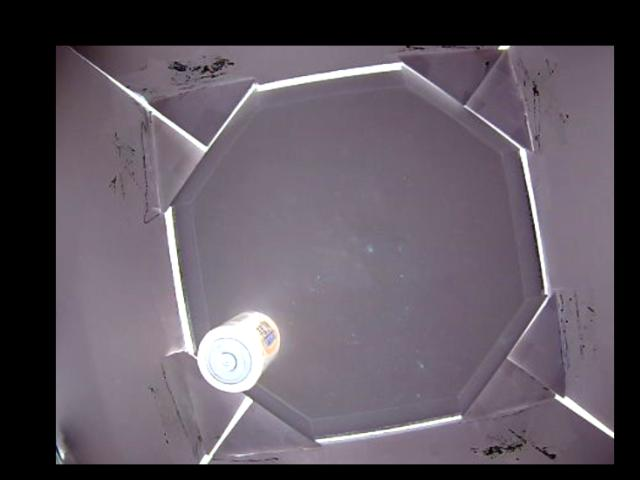Battery: (194, 312, 280, 392)
